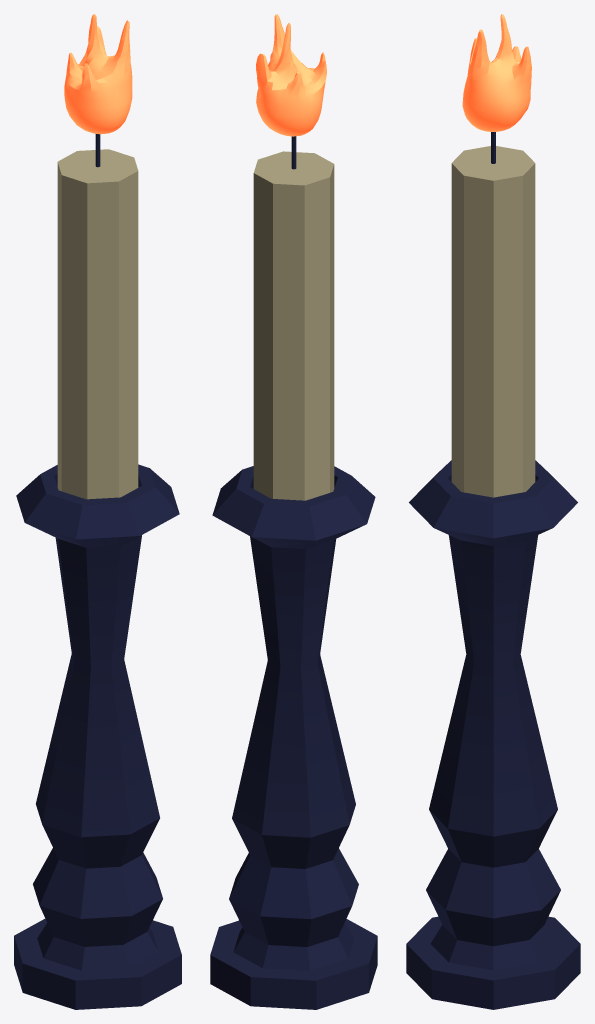
The model's file is Candelabro 1.fbx.
3 views of the same model, side by side, from view 1: azimuth 30°, elevation 25°; view 2: azimuth 150°, elevation 25°; view 3: azimuth 270°, elevation 25° (orthographic).
Visible parts, largest first — view 1: Candelabro piccolo.005; view 2: Candelabro piccolo.005; view 3: Candelabro piccolo.005.
Part boxes in pixels (bbox=[...]): Candelabro piccolo.005: bbox=[14, 14, 181, 1009]; Candelabro piccolo.005: bbox=[210, 14, 377, 1009]; Candelabro piccolo.005: bbox=[406, 14, 580, 1009].
Size of the model in its own units: 16.8 by 102 by 16.8.
